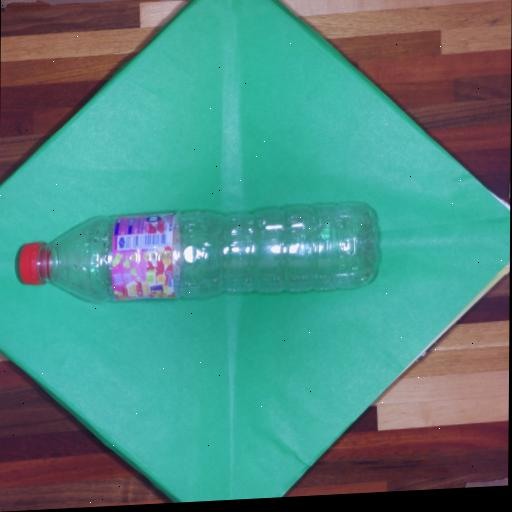bottle: (19, 202, 376, 300)
